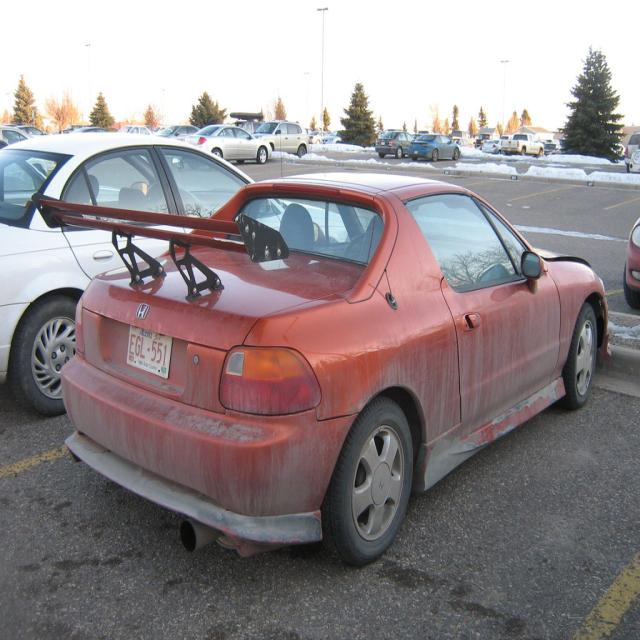car: (406, 129, 461, 158), (374, 127, 414, 153)
